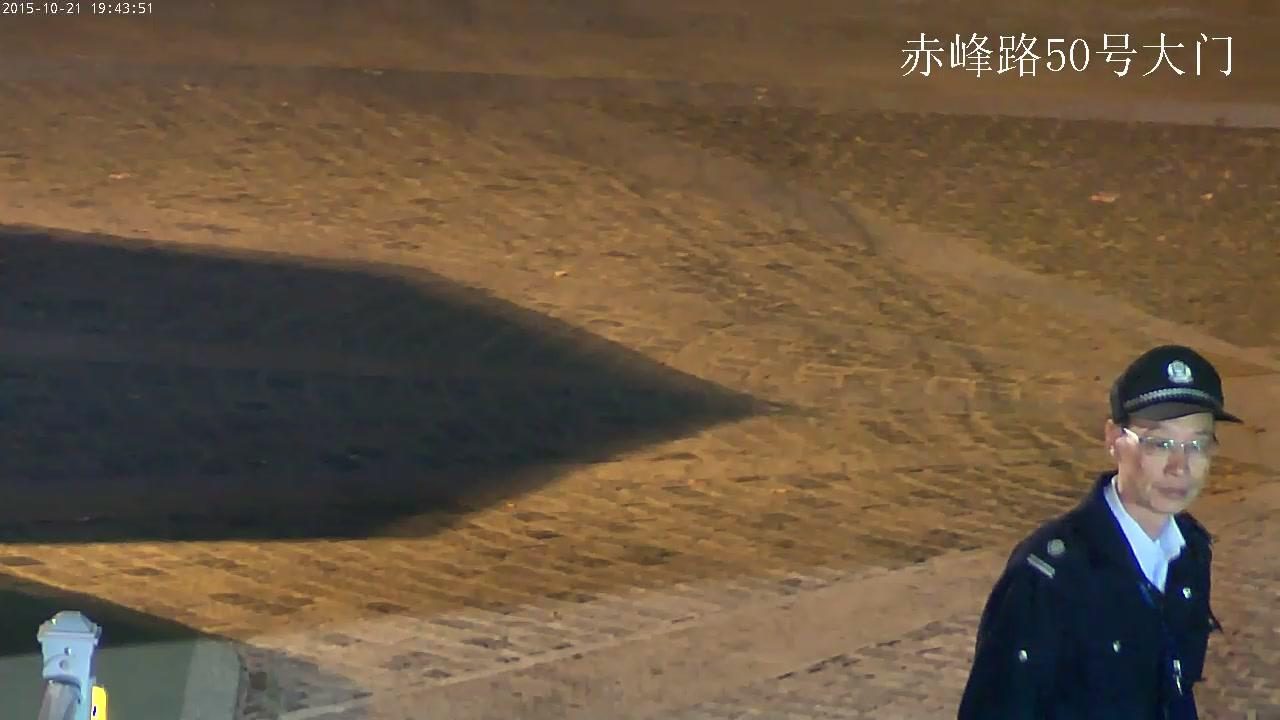person: (957, 344, 1246, 720)
